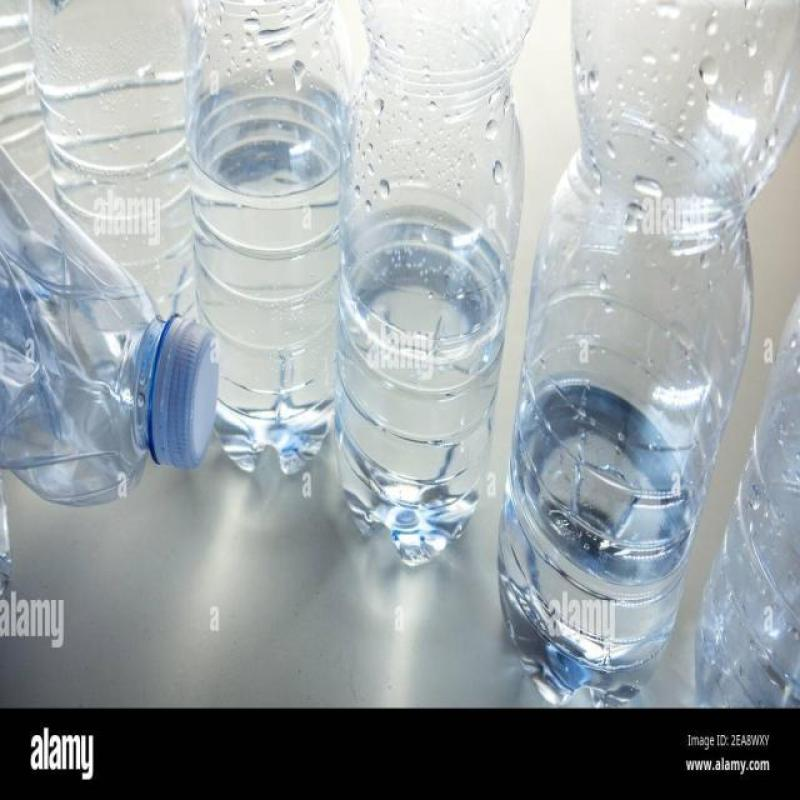botella: (496, 0, 798, 709), (337, 0, 538, 571), (0, 131, 221, 508), (183, 0, 343, 484), (27, 0, 206, 405), (694, 292, 800, 708), (0, 0, 56, 219), (0, 491, 10, 605)
